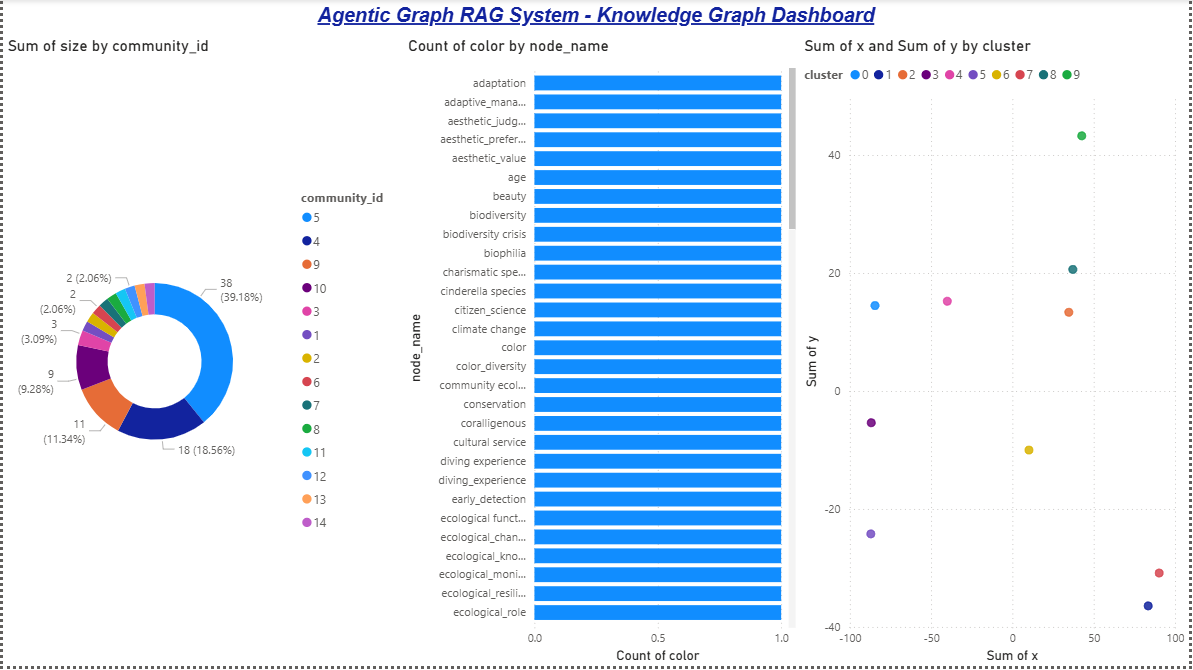

The dashboard page shown, as its layout file describes it:
{"tool":"powerbi","page":{"name":"Page 1","canvas":[1280,720],"ordinal":0},"visuals":[{"type":"donutChart","fields":{"Category":["communities.community_id"],"Y":["Sum(communities.size)"]},"box":[0,40,431.7,680],"z":0},{"type":"barChart","fields":{"Category":["nodes (3).node_name"],"Y":["CountNonNull(nodes (3).color)"]},"box":[431.7,40,428.3,680],"z":1},{"type":"scatterChart","fields":{"X":["Sum(pca_points.x)"],"Y":["Sum(pca_points.y)"],"Series":["pca_points.cluster"]},"box":[860,40,420,680],"z":2},{"type":"actionButton","box":[0,0,100,40],"z":4},{"type":"textbox","box":[0,0,1280,40],"z":5}]}

Visuals, with their boxes in screenshot pixels (x1, y1, x2, y2), scaled from the page's 1280x720 canvas onto the 1193x670 screenshot:
donutChart - communities.community_id x Sum(communities.size): x1=0 y1=37 x2=402 y2=669
barChart - nodes (3).node_name x CountNonNull(nodes (3).color): x1=402 y1=37 x2=802 y2=669
scatterChart - Sum(pca_points.x) x Sum(pca_points.y): x1=802 y1=37 x2=1192 y2=669
actionButton: x1=0 y1=0 x2=93 y2=37
textbox: x1=0 y1=0 x2=1192 y2=37
